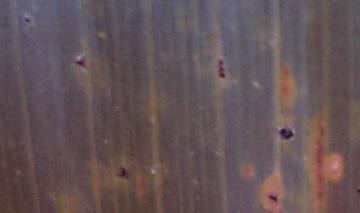tarspot: (277, 126, 294, 139), (75, 55, 86, 71), (117, 166, 128, 180), (268, 194, 277, 203), (23, 16, 32, 24), (218, 67, 225, 73), (218, 59, 224, 66), (219, 73, 226, 78), (356, 187, 360, 193)
